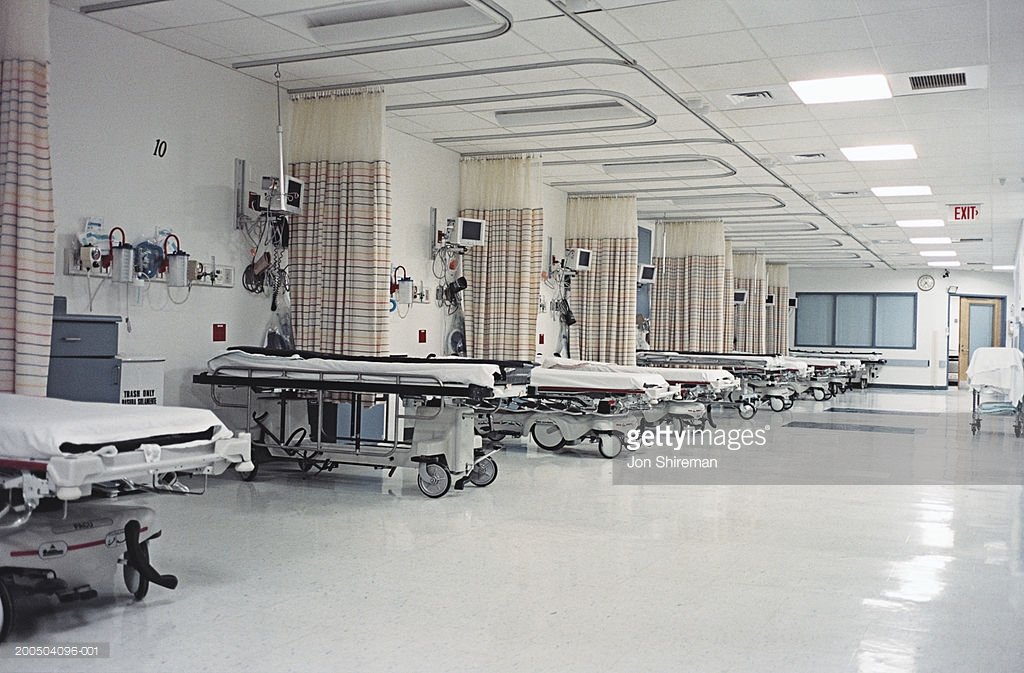hospital bed: (195, 336, 541, 419), (458, 338, 682, 405), (647, 340, 797, 376)
